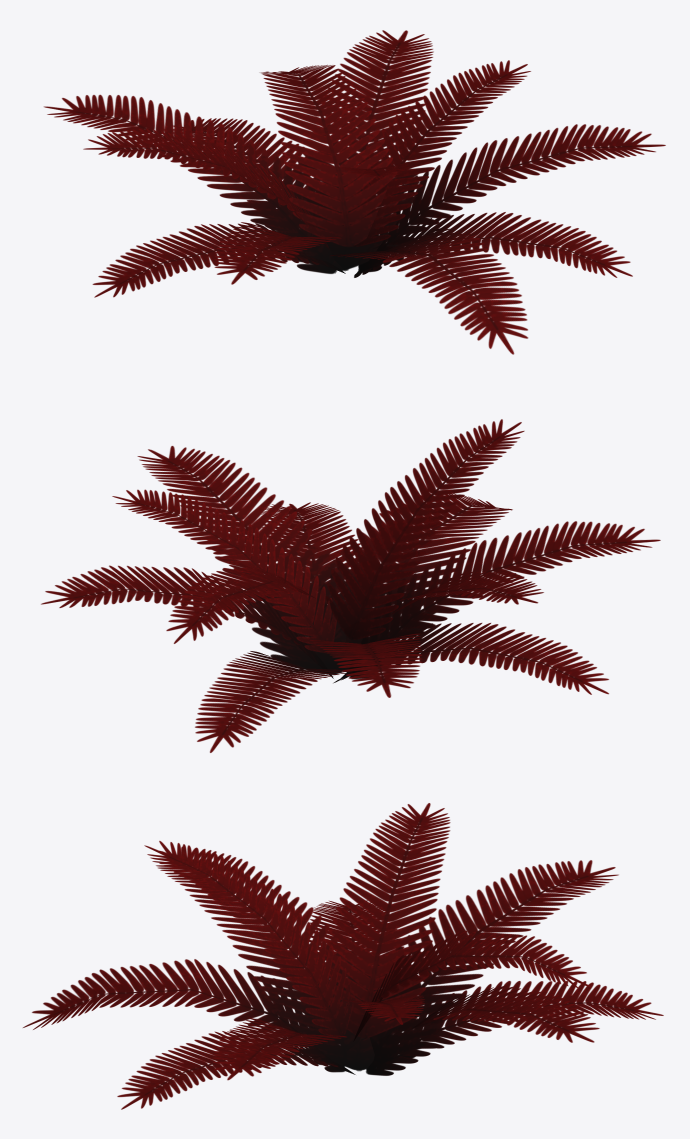
Rendered from SM_Nature_Plant_01.glb.
The picture shows the model from 3 angles, top to bottom: view 1: azimuth 30°, elevation 25°; view 2: azimuth 150°, elevation 25°; view 3: azimuth 270°, elevation 25°; orthographic projection. The views are drawn at different scales.
Visible parts, largest first — view 1: SM_Plant_01; view 2: SM_Plant_01; view 3: SM_Plant_01.
Boxes of the visible parts, x1,y1,x2,y2 form: SM_Plant_01: [44, 30, 665, 354]; SM_Plant_01: [41, 419, 660, 752]; SM_Plant_01: [23, 803, 663, 1109].
Size of the model in its own units: 1.15 by 0.3967 by 1.2.
Materials: 1 (1 with a texture image).
